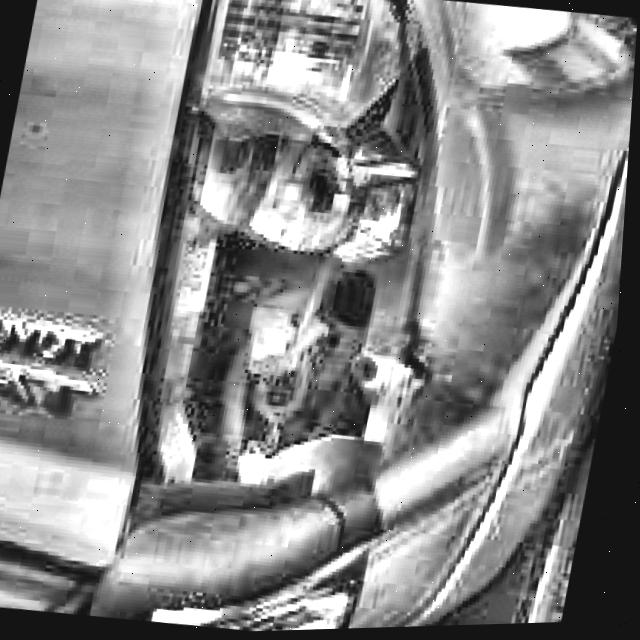tail_lamp: (132, 127, 430, 511)
